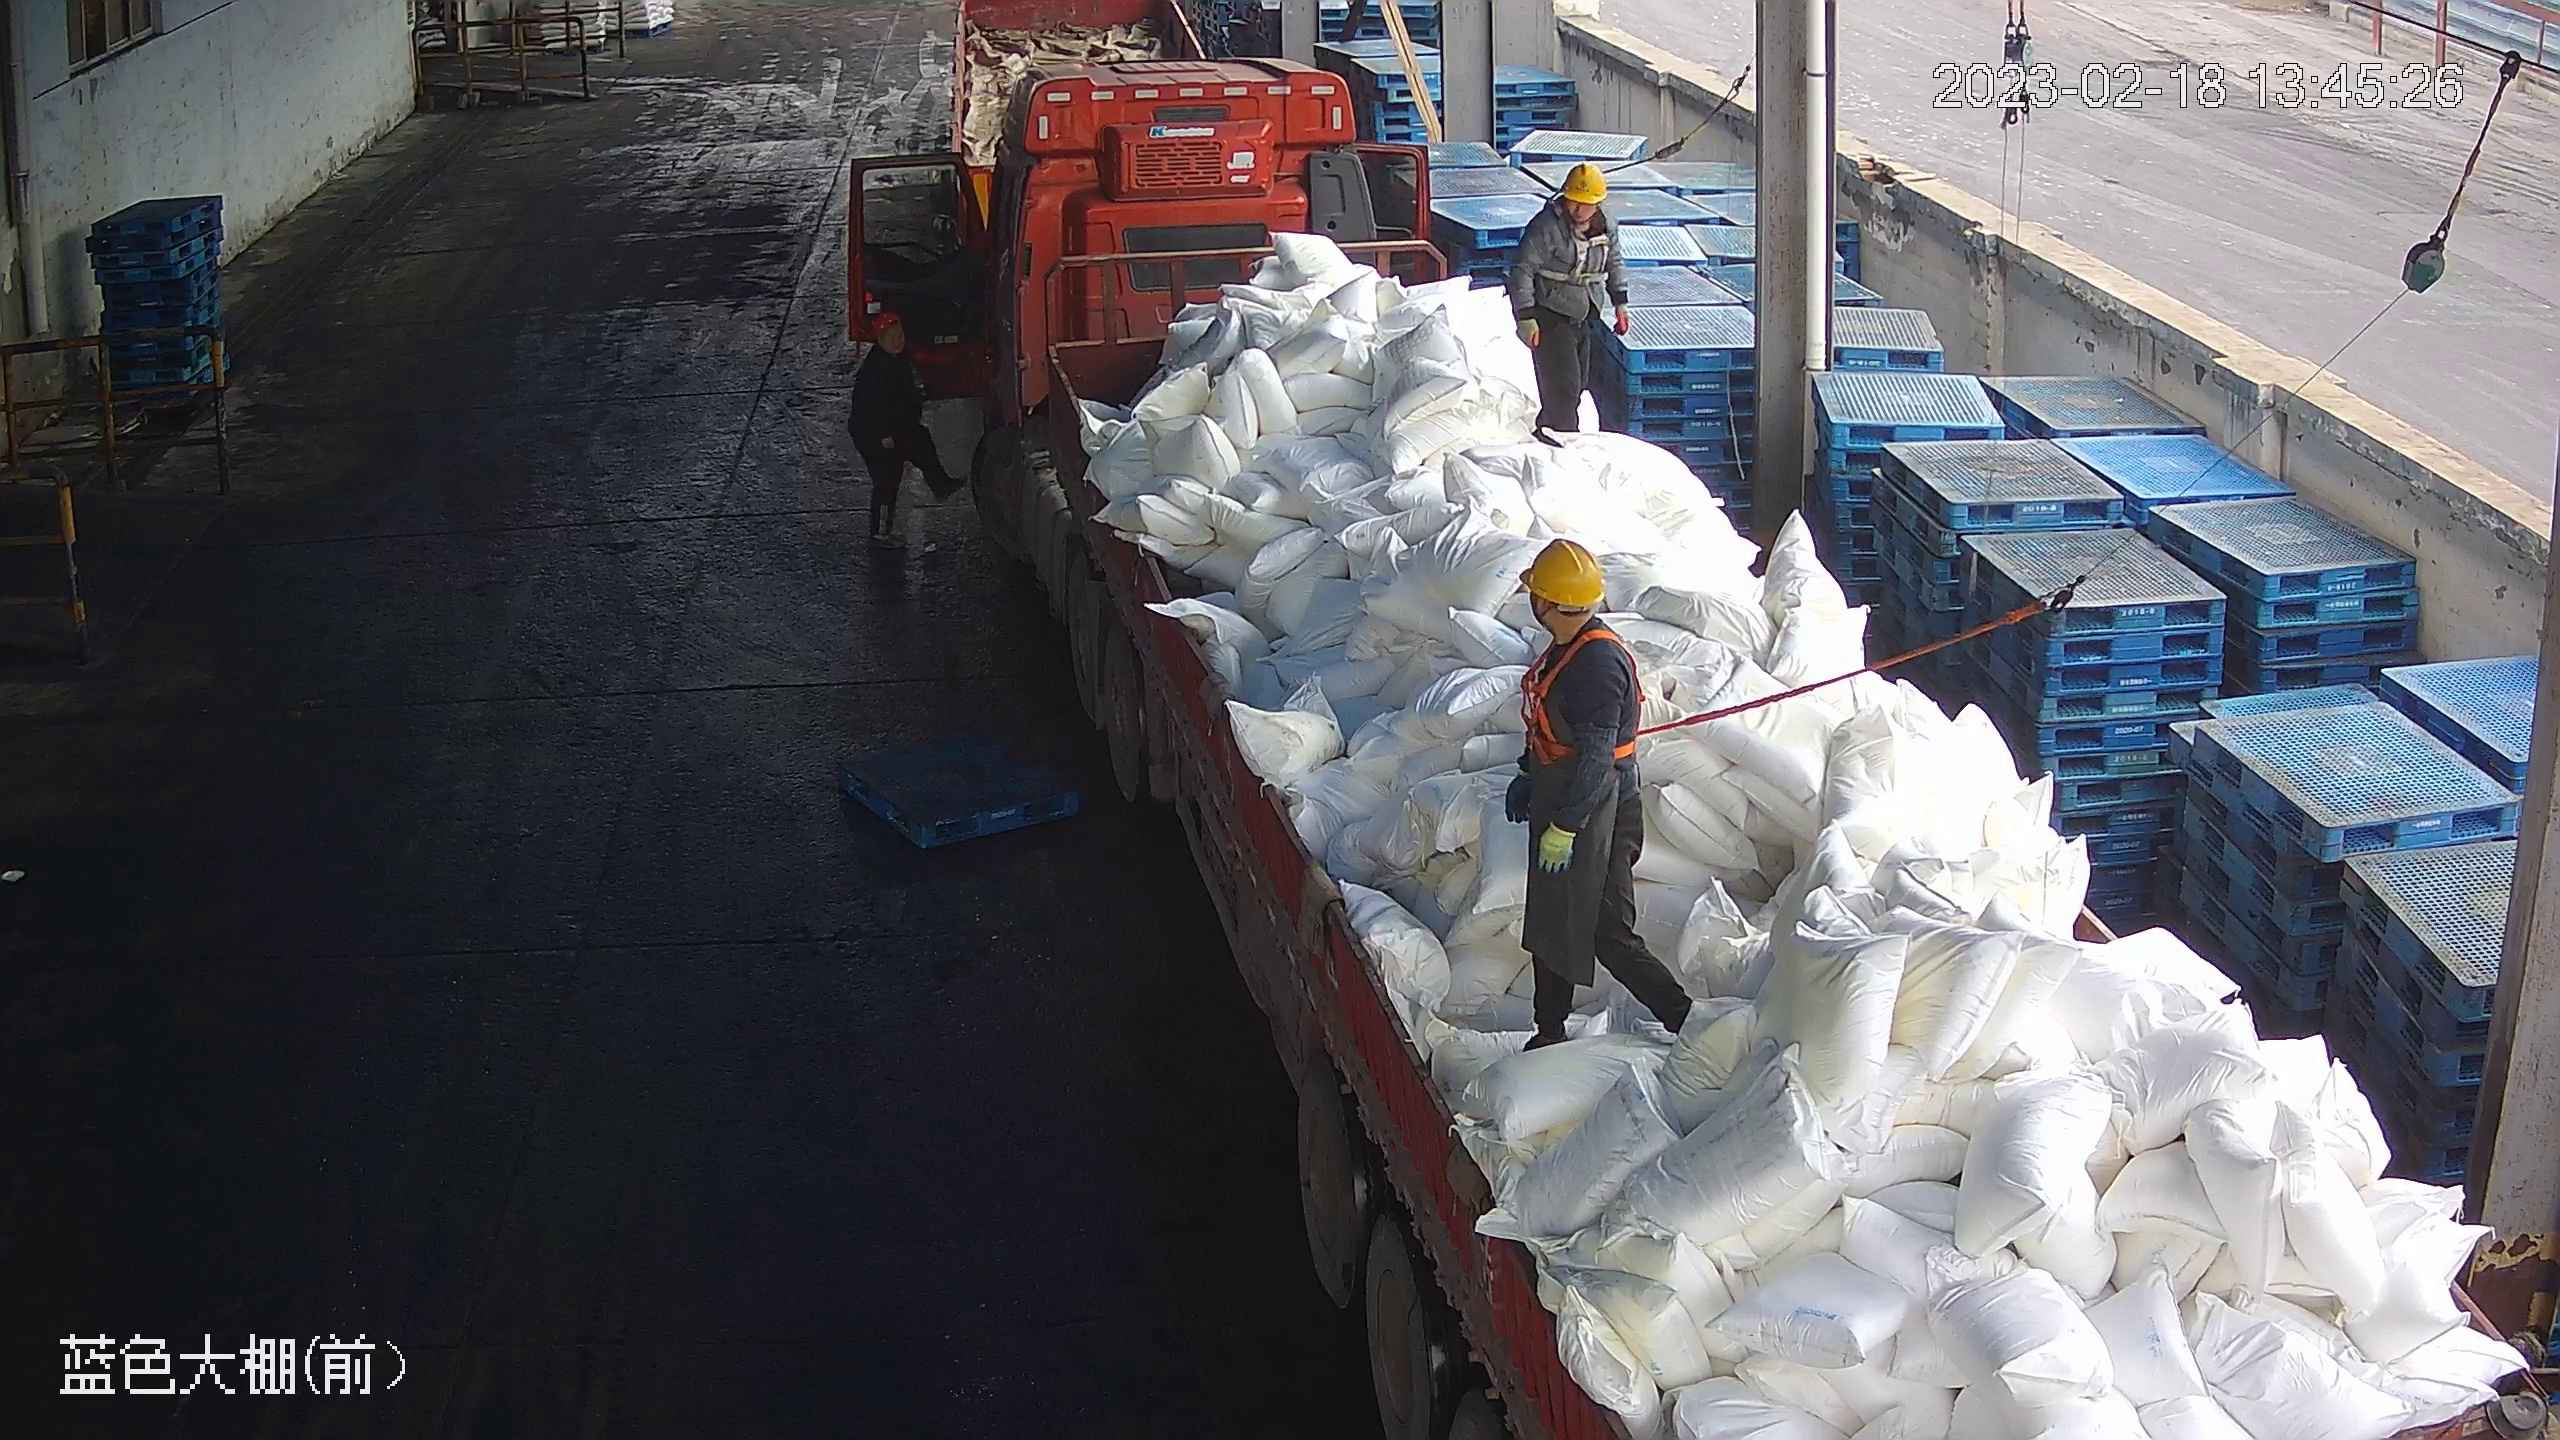belt: (1514, 627, 1661, 766), (1545, 209, 1609, 285)
head: (1510, 537, 1638, 710), (1528, 156, 1618, 248), (855, 305, 914, 387)
helmet: (1519, 536, 1611, 605), (1558, 157, 1611, 206), (861, 304, 904, 340)
people: (1493, 537, 1696, 1057), (1509, 157, 1635, 447), (849, 305, 963, 559)
truck: (847, 56, 2555, 1434)
